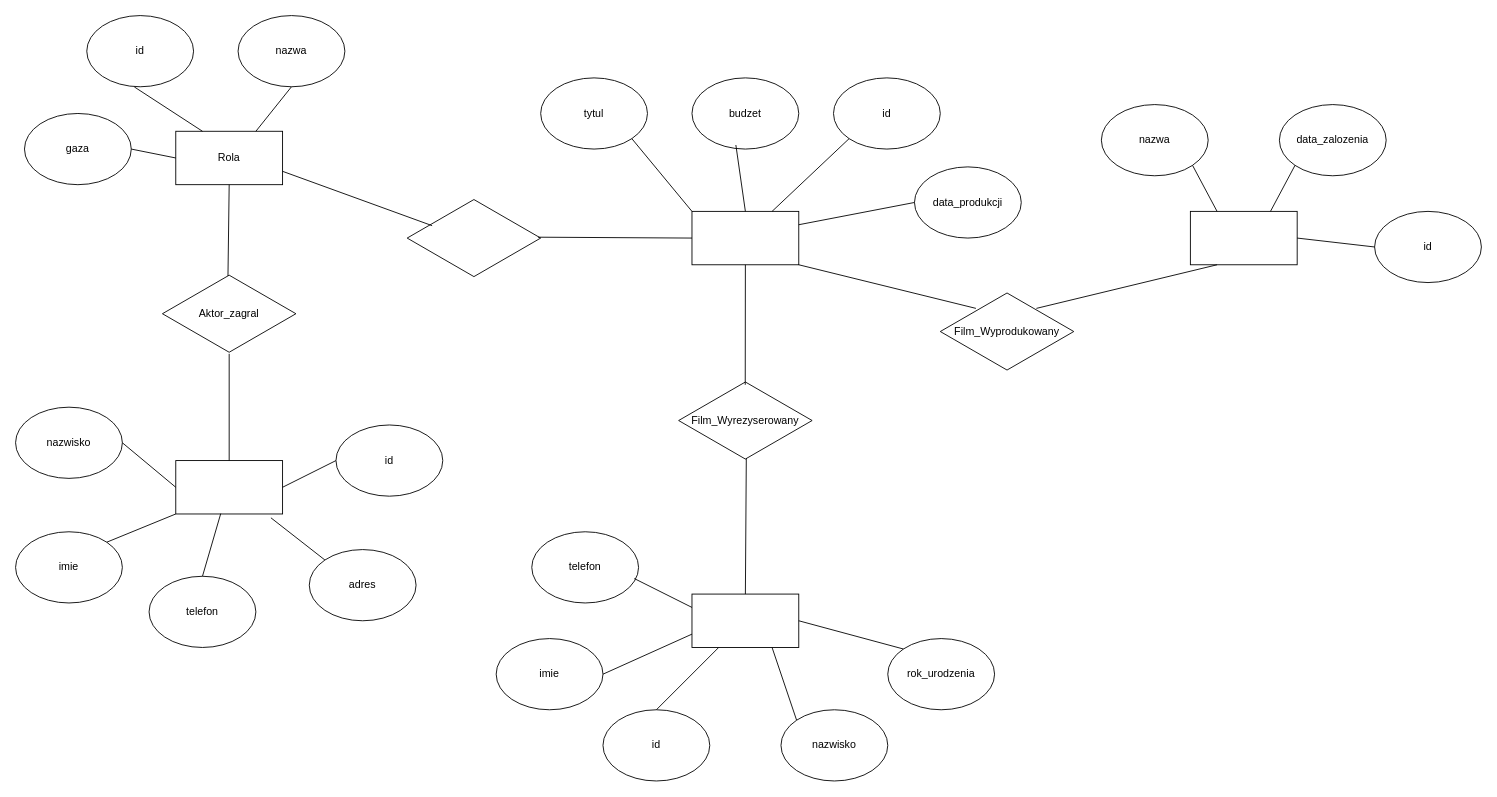
Image size: 1497x797. Some labels were removed from this diagram. The centre of each missing label's shape, as x and y in pixels:
Aktorzy: point 229,487
Filmy: point 745,237
Rezyser: point 745,620
Rola_w_filmie: point 473,237
Wytwornie: point 1243,237
